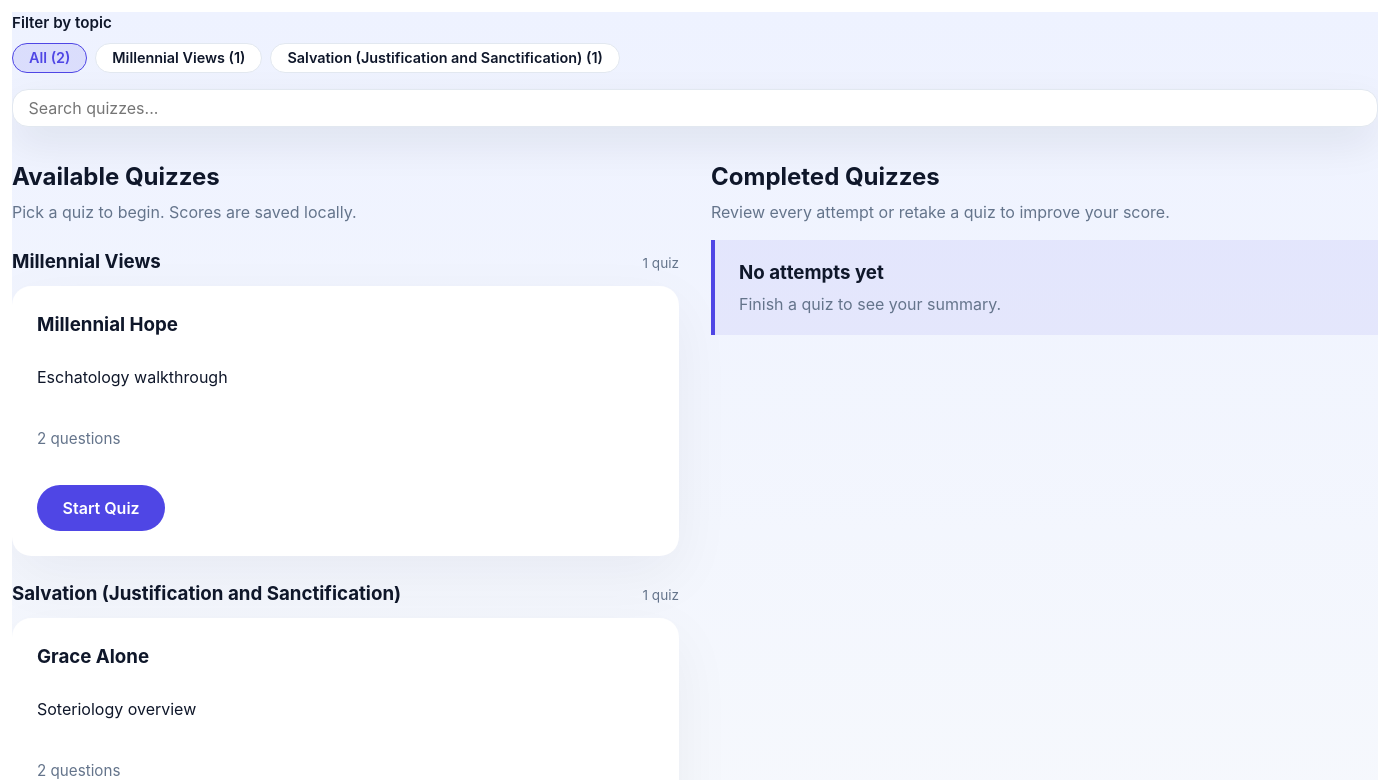
it: QuizListPage › filters quizzes using the live search input and hides grouping during search
The width and height of the screenshot is (1390, 780).
Expected: the heading "Salvation (Justification and Sanctification)" is shown, [12,580,401,608]
Type "hope" into the search field with placeholder "Search quizzes...".
click(695, 108); type("hope")  # box [27,97,1363,119]
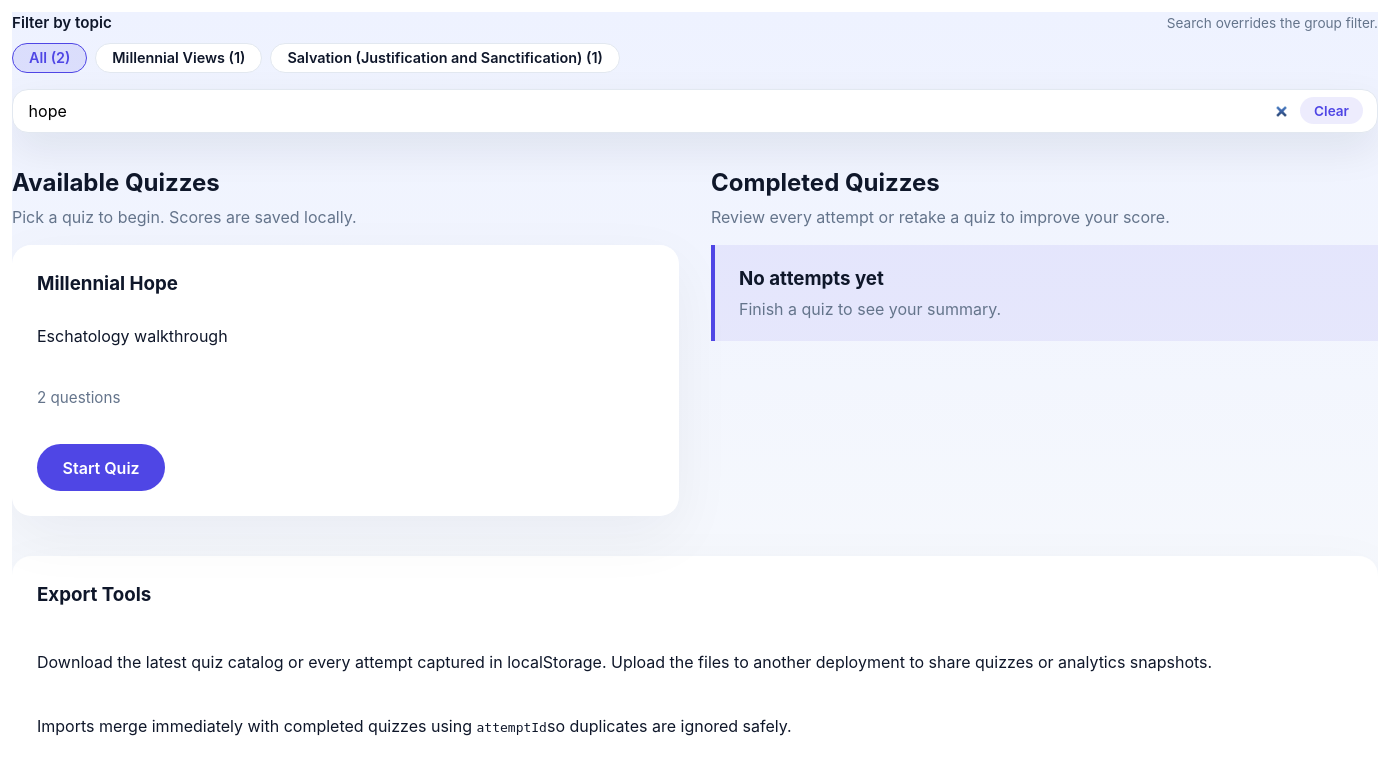
Expected: the heading "Millennial Hope" is shown, [37,272,178,295]
Now the heading "Grace Alone" is gone
Clear the search field with placeholder "Search quizzes..." at point(659, 111), box [27,100,1292,122]
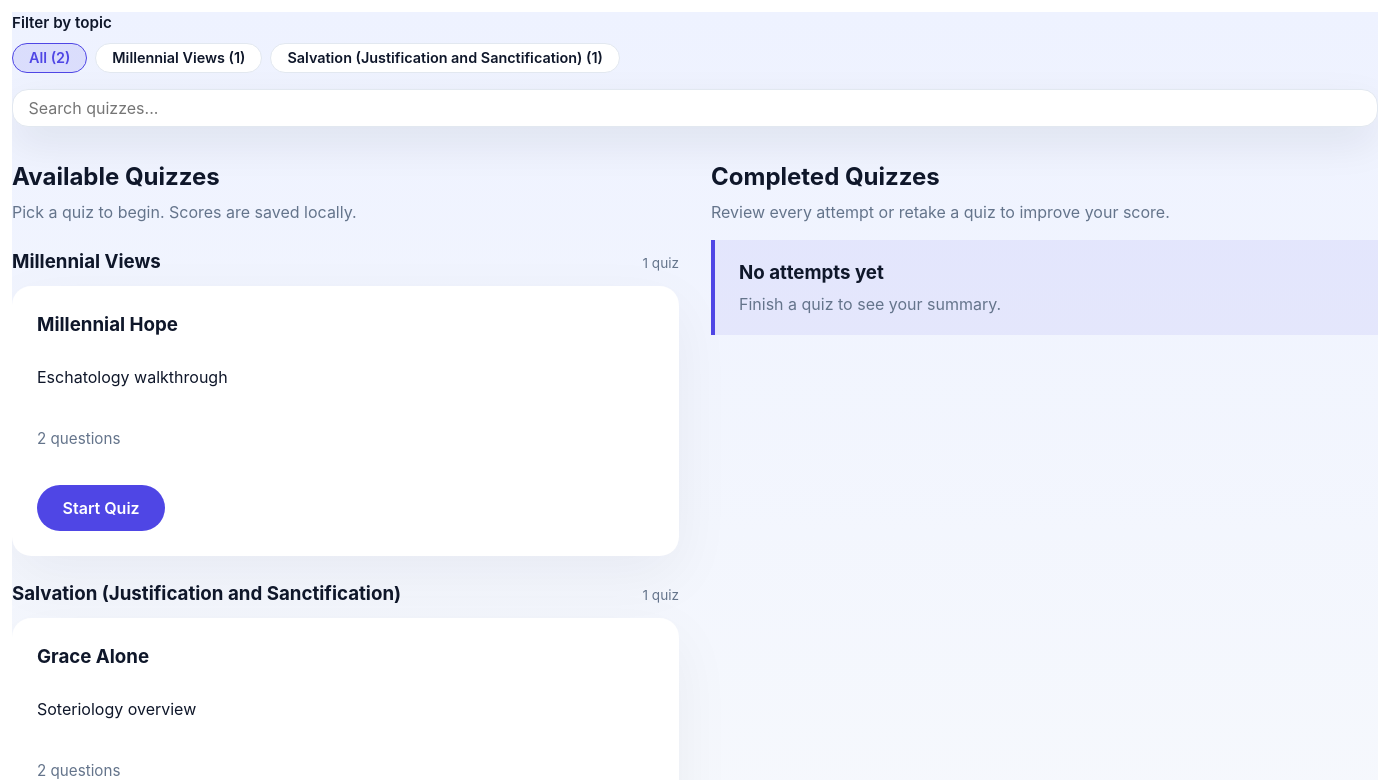
Now the heading "Salvation (Justification and Sanctification)" is shown, box [12,580,401,608]
